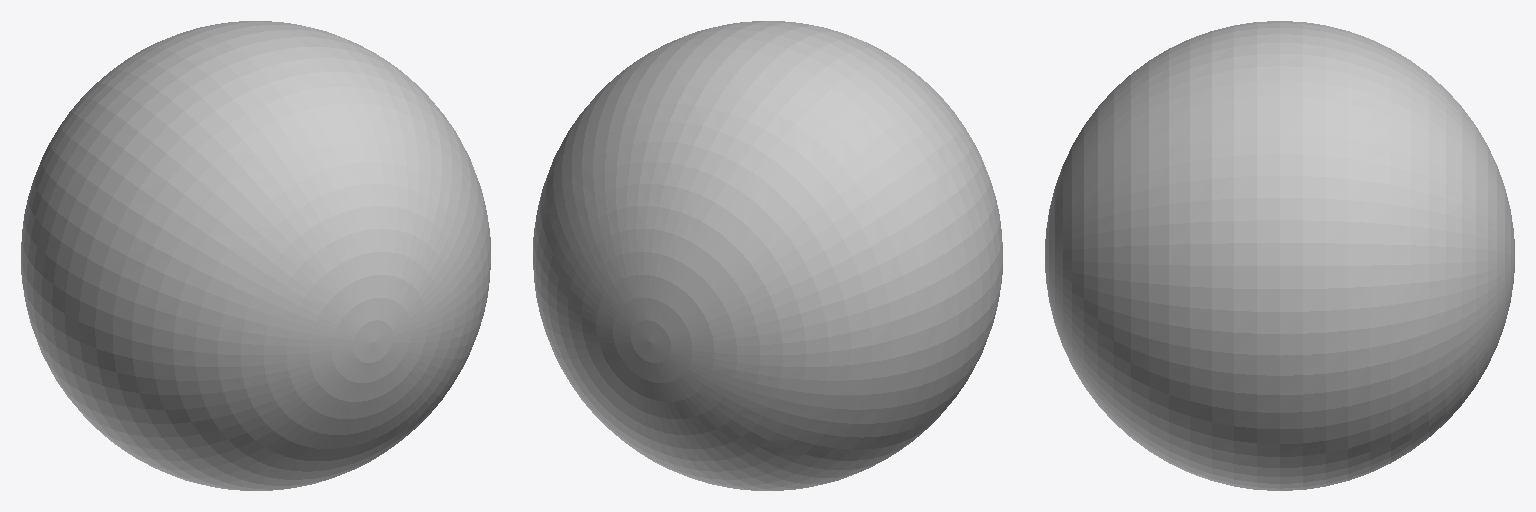
The model's file is SkyBoxUni2.obj.
The picture shows the model from 3 angles: view 1: azimuth 30°, elevation 25°; view 2: azimuth 150°, elevation 25°; view 3: azimuth 270°, elevation 25°; orthographic projection.
Parts seen in each view (by area): view 1: object_0; view 2: object_0; view 3: object_0.
Boxes of the visible parts, x1,y1,x2,y2 form: object_0: [21, 21, 490, 490]; object_0: [533, 21, 1002, 490]; object_0: [1045, 21, 1514, 490].
Size of the model in its own units: 2 by 2 by 2.